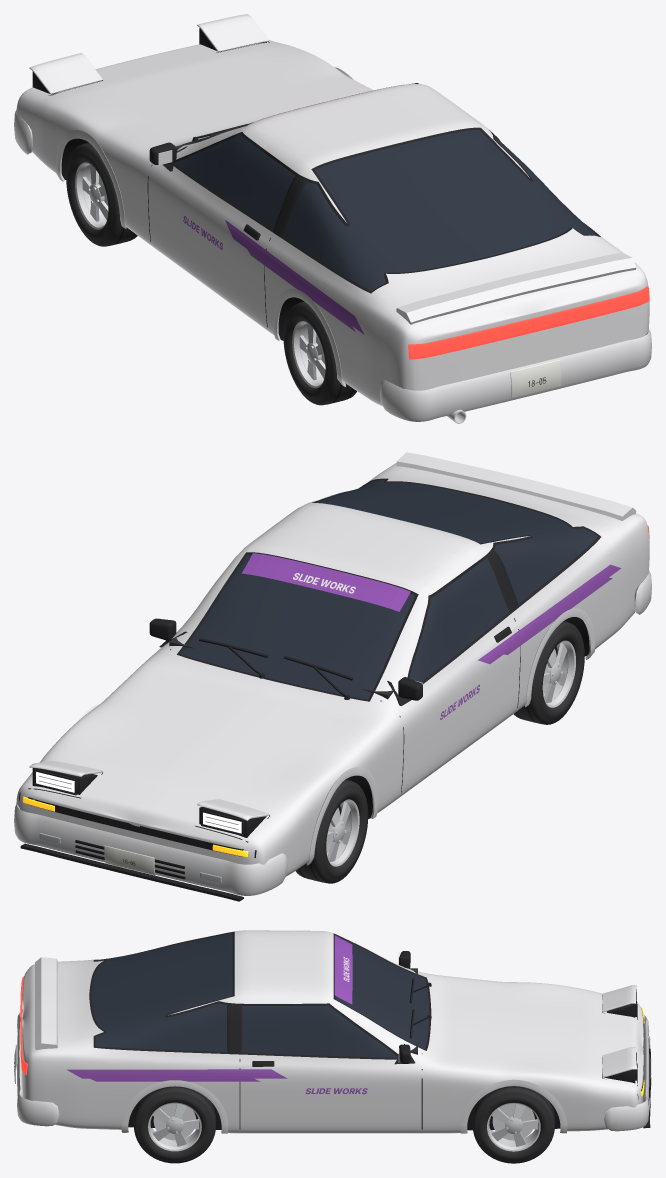
The picture shows the model from 3 angles, top to bottom: view 1: azimuth 30°, elevation 25°; view 2: azimuth 150°, elevation 25°; view 3: azimuth 270°, elevation 25°; orthographic projection. The views are drawn at different scales.
Visible parts, largest first — view 1: Body, Wheel_RL, Wheel_FL, Popup_L, Popup_R; view 2: Body, Wheel_FL, Wheel_RL, Popup_L, Popup_R; view 3: Body, Wheel_FR, Wheel_RR, Popup_R, Popup_L.
Boxes of the visible parts, x1,y1,x2,y2 form: Body: (14,40,651,423); Wheel_RL: (283,301,356,405); Wheel_FL: (66,142,137,246); Popup_L: (29,53,102,94); Popup_R: (197,14,269,52); Body: (14,452,651,901); Wheel_FL: (295,779,368,883); Wheel_RL: (513,621,584,724); Popup_L: (197,799,269,837); Popup_R: (29,760,102,795); Body: (14,930,651,1133); Wheel_FR: (472,1086,555,1163); Wheel_RR: (133,1086,216,1163); Popup_R: (602,1047,637,1083); Popup_L: (602,985,637,1017).
Bounding box in the file's own units: 1.78 × 1.27 × 4.66.
